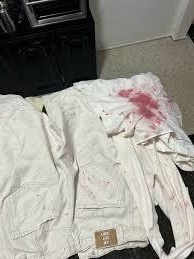lipstick: (118, 91, 163, 127), (133, 93, 152, 112), (112, 85, 132, 101), (174, 199, 189, 209), (88, 191, 97, 198), (33, 190, 40, 197)
